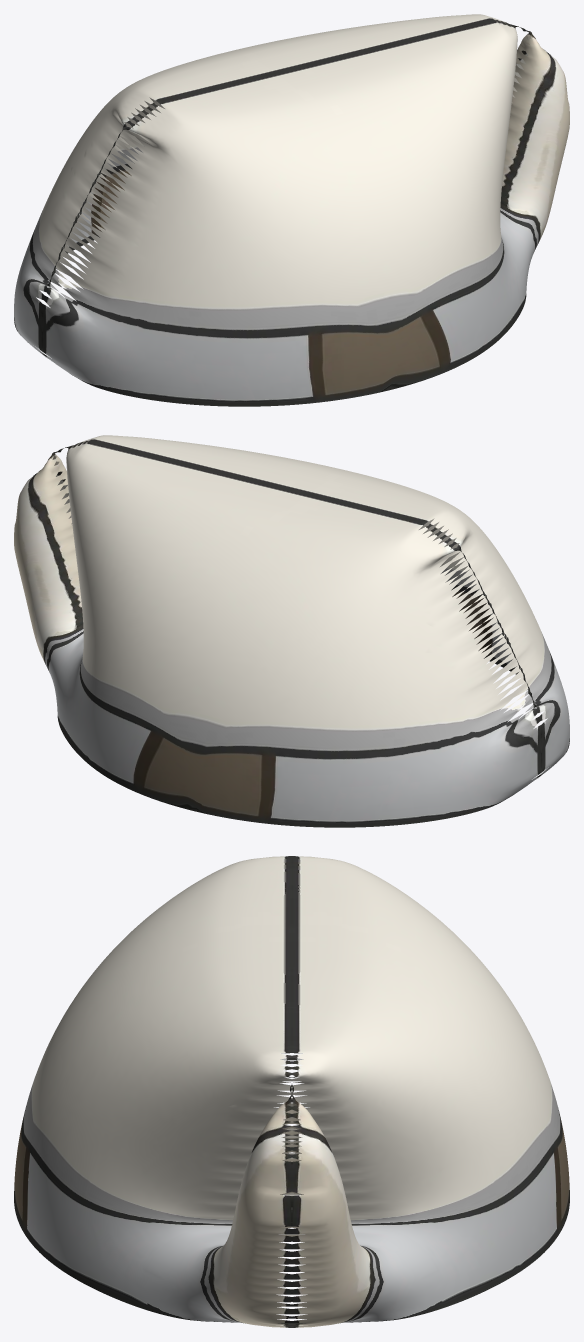
File: reactor_pedestal.glb
The picture shows the model from 3 angles, top to bottom: view 1: azimuth 30°, elevation 25°; view 2: azimuth 150°, elevation 25°; view 3: azimuth 270°, elevation 25°; orthographic projection. The views are drawn at different scales.
Parts seen in each view (by area): view 1: reactor_pedestal; view 2: reactor_pedestal; view 3: reactor_pedestal.
Part boxes in pixels (x1,y1,x2,y2): reactor_pedestal: [14, 14, 569, 406]; reactor_pedestal: [14, 435, 569, 827]; reactor_pedestal: [14, 856, 569, 1327].
Bounding box in the file's own units: 0.989 × 0.4216 × 0.7694.
Materials: 1 (1 with a texture image).
